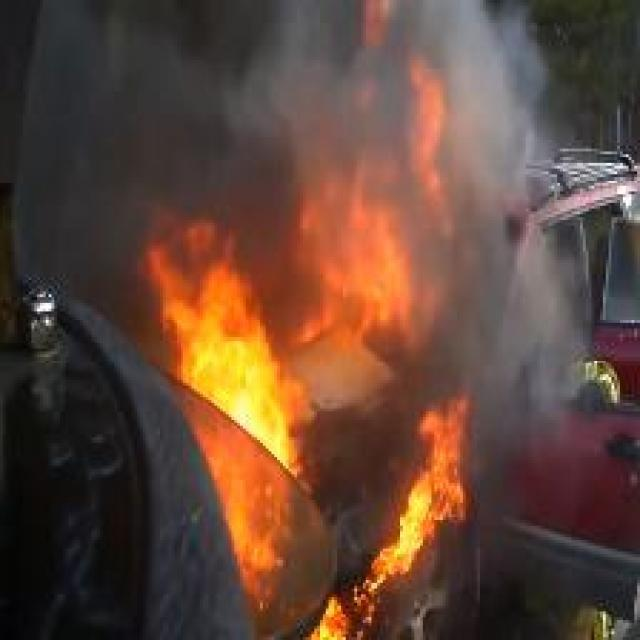Fire: (144, 222, 313, 608), (294, 0, 460, 343), (310, 397, 467, 640)
